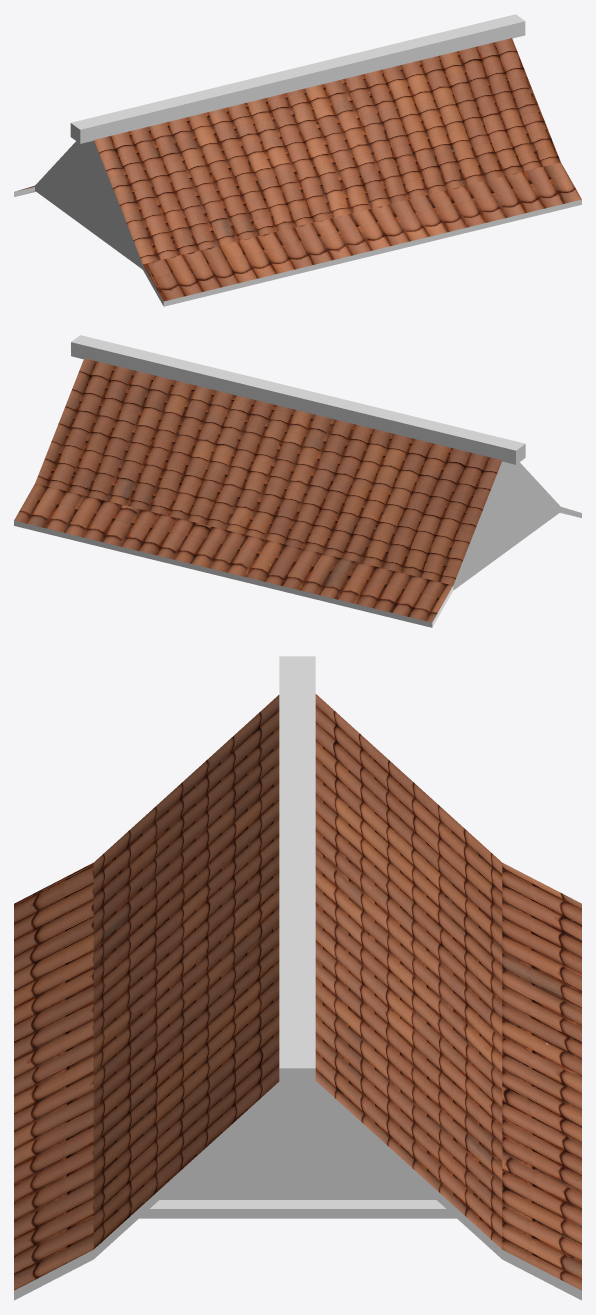
Rendered from Traditional Roof.fbx.
3 renders of one model, top to bottom at view 1: azimuth 30°, elevation 25°; view 2: azimuth 150°, elevation 25°; view 3: azimuth 270°, elevation 25°, orthographic. The views are drawn at different scales.
Parts seen in each view (by area): view 1: Trad Roof; view 2: Trad Roof; view 3: Trad Roof.
Part boxes in pixels (x1=…): Trad Roof: x1=14, y1=14, x2=581, y2=306; Trad Roof: x1=14, y1=335, x2=581, y2=627; Trad Roof: x1=14, y1=656, x2=581, y2=1300.
Size of the model in its own units: 477 by 132 by 278.
2 materials, 1 textured.
